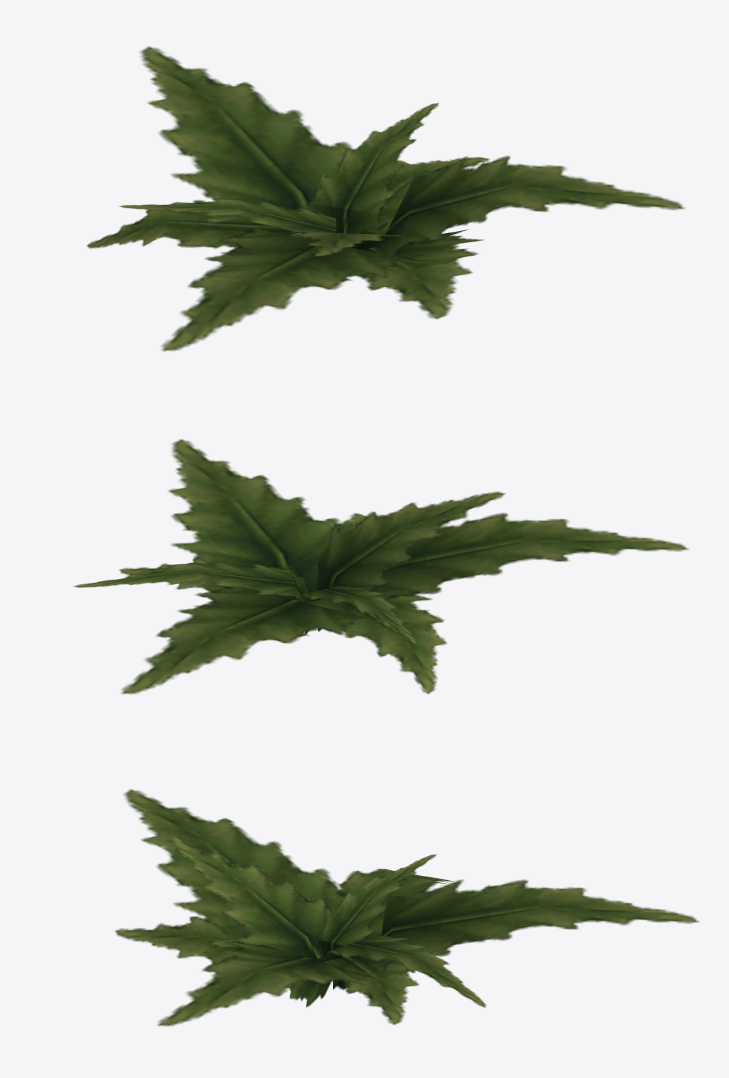
Rendered from lp_bush_c.glb.
3 renders of one model, top to bottom at view 1: azimuth 30°, elevation 25°; view 2: azimuth 150°, elevation 25°; view 3: azimuth 270°, elevation 25°, orthographic. The views are drawn at different scales.
Parts seen in each view (by area): view 1: lp_bush_c; view 2: lp_bush_c; view 3: lp_bush_c.
Boxes of the visible parts, bbox=[...] form: lp_bush_c: bbox=[86, 46, 685, 351]; lp_bush_c: bbox=[73, 439, 688, 694]; lp_bush_c: bbox=[114, 789, 699, 1026].
Bounding box in the file's own units: 0.7841 × 0.1121 × 0.7578.
Materials: 1 (1 with a texture image).
